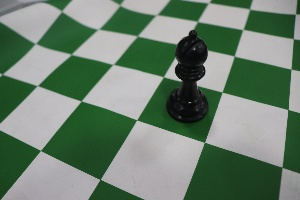black_bishop: (163, 23, 219, 130)
